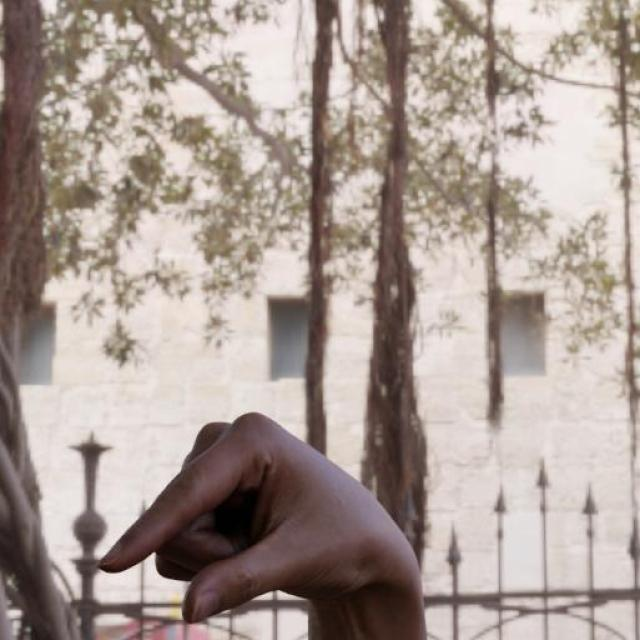Q: (93, 408, 422, 626)
